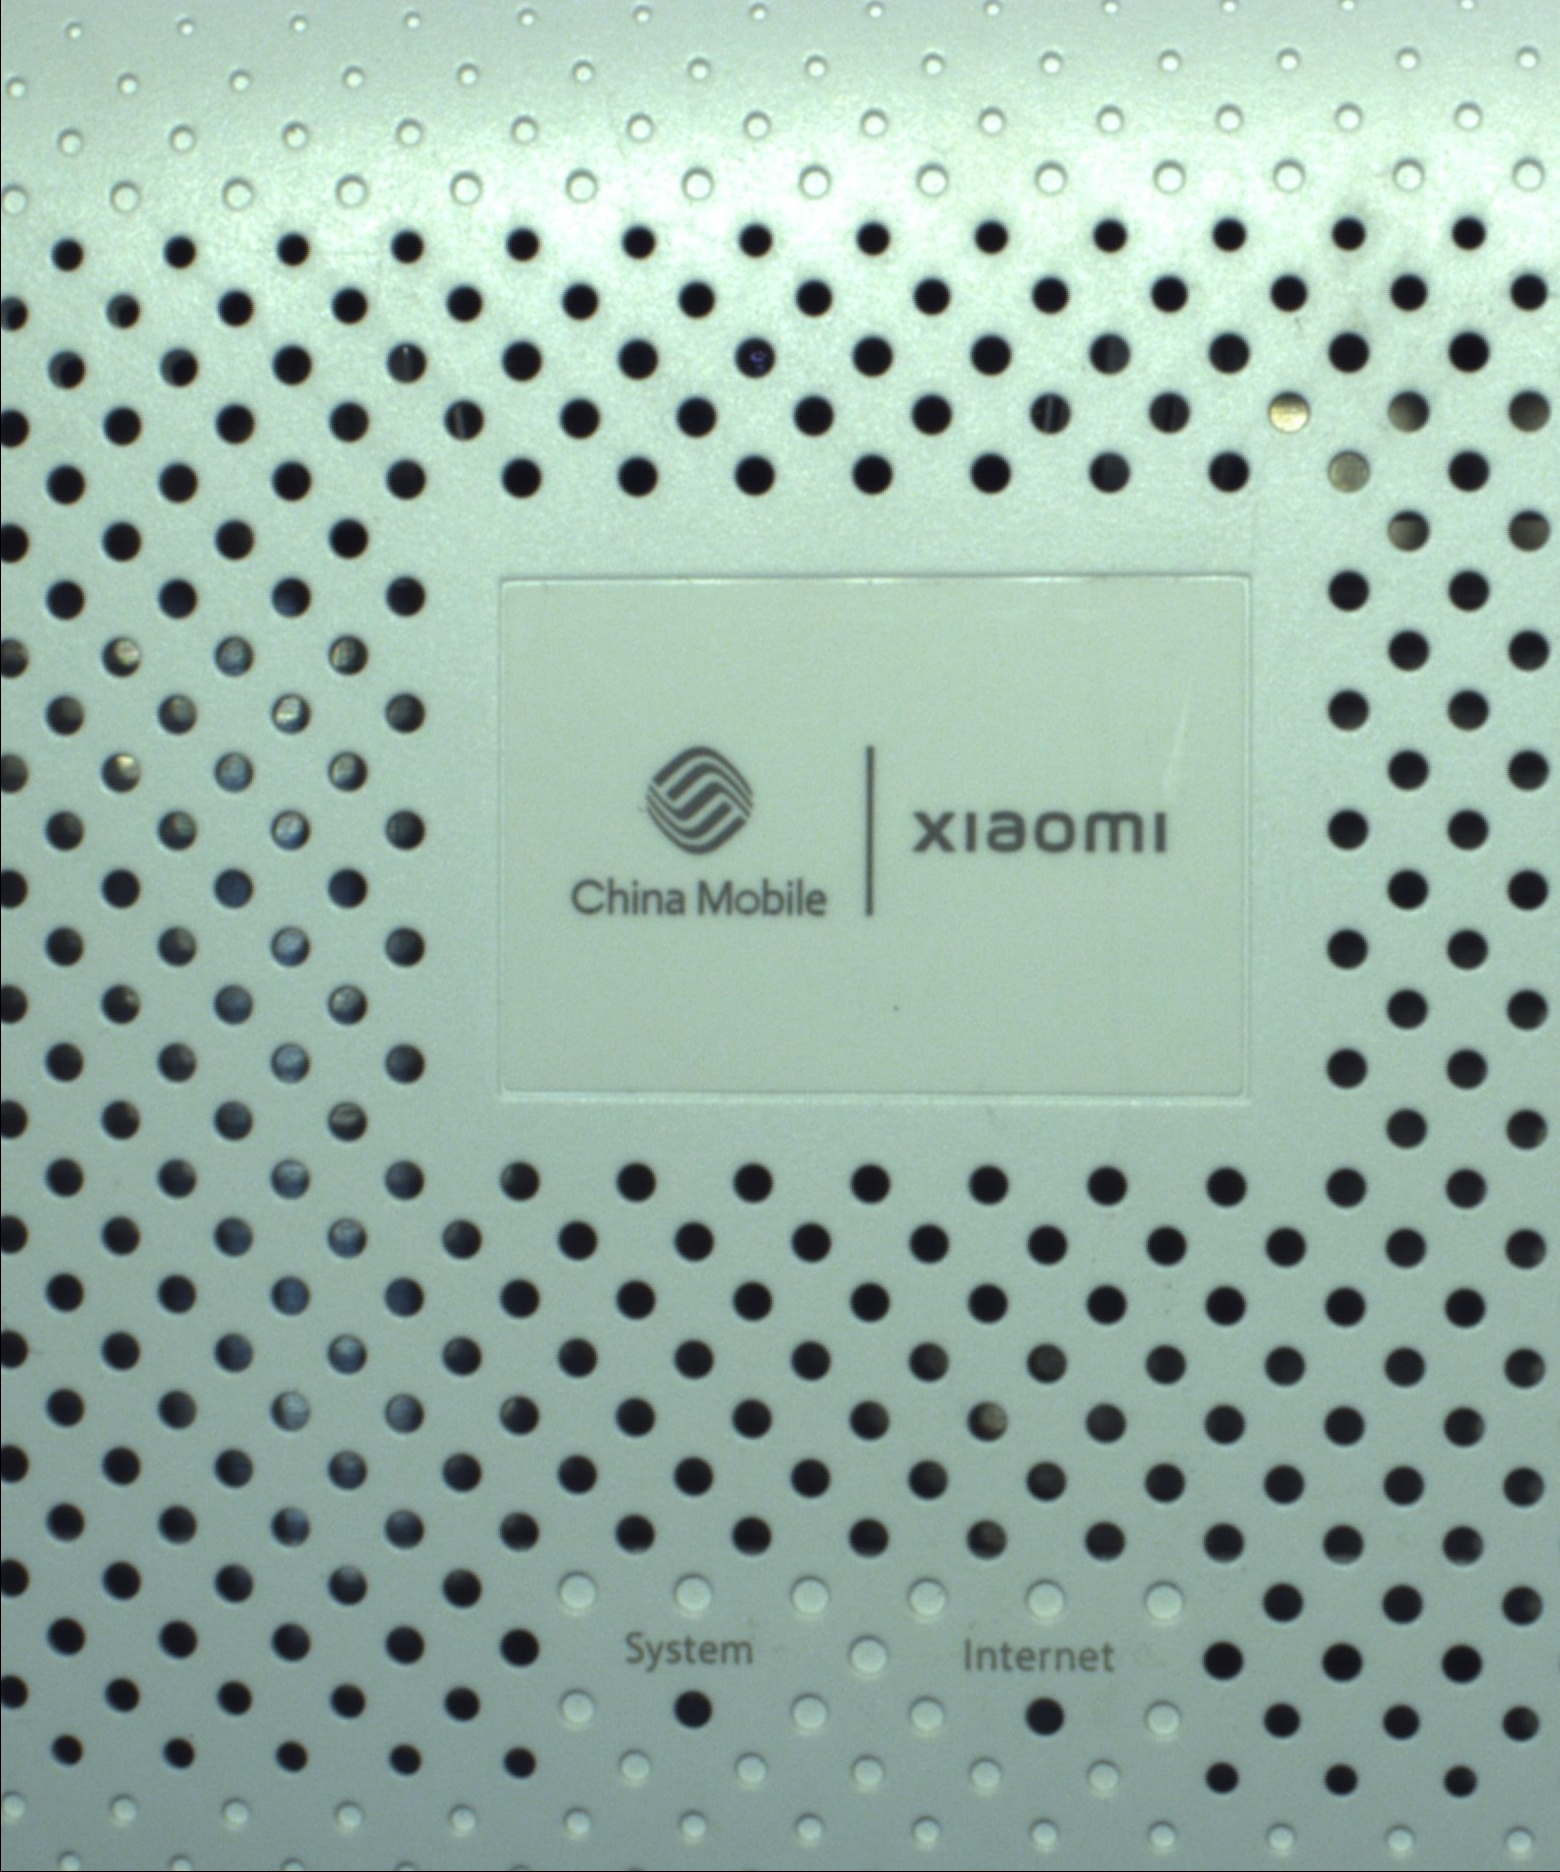MAD_ChinaMobile: (561, 743, 1185, 936)
